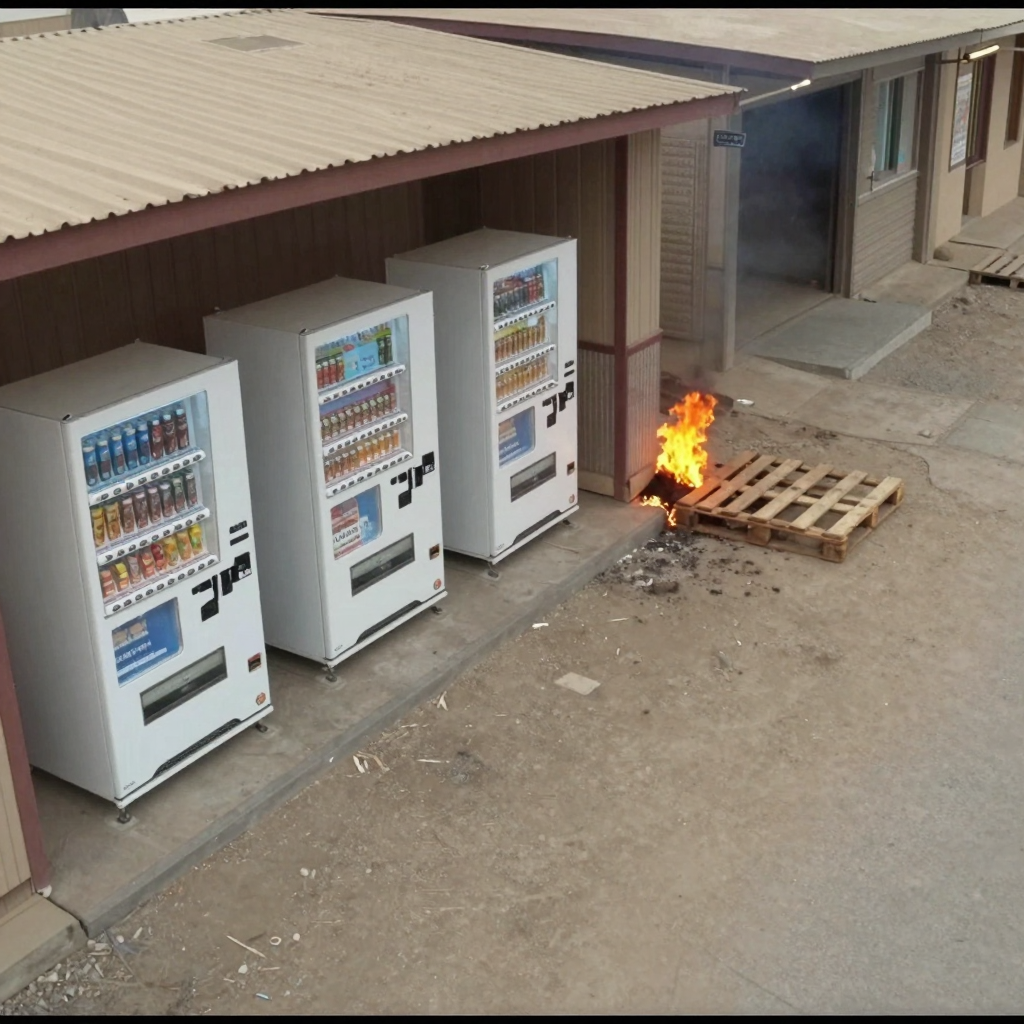Arson: (643, 397, 719, 517)
